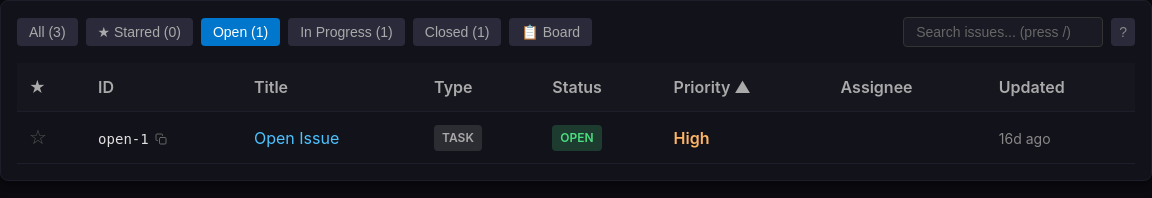
Test: IssueList › status filtering › filters by closed status
This screenshot has width=1152, height=198.
Click the button "Closed (1)": click(457, 32) [413,18,501,46]
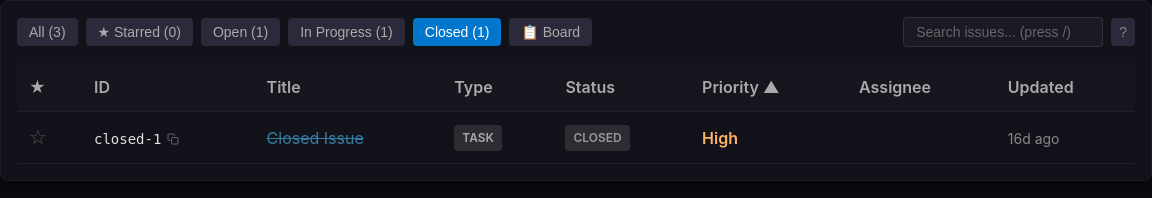
Check: the text "Open Issue" is gone
Check: the text "Closed Issue" is shown, box [267,128,364,148]
